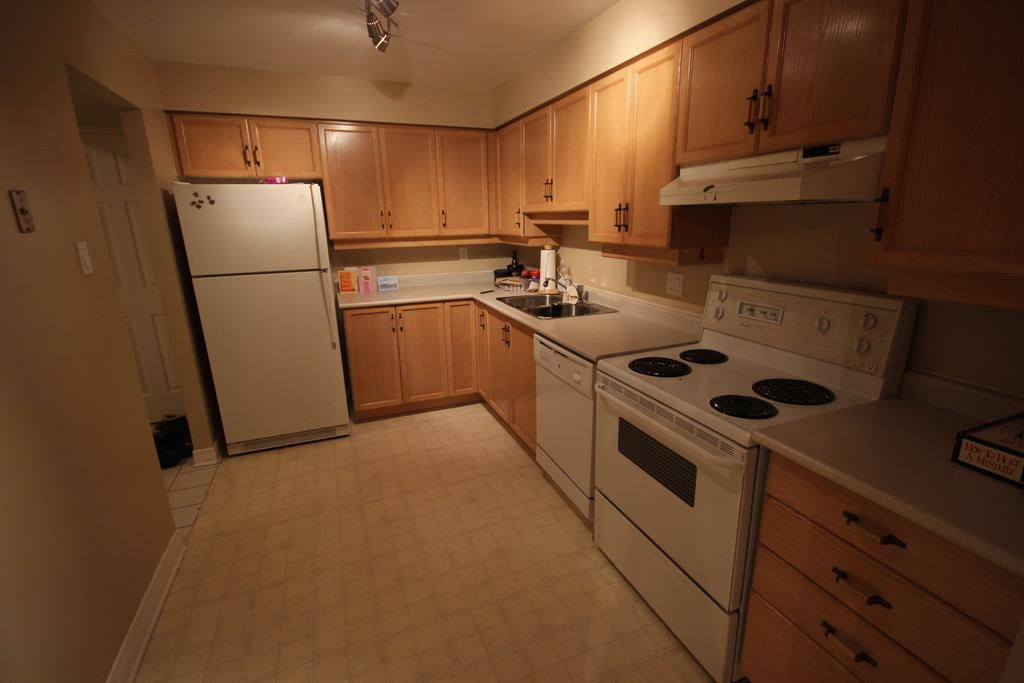door: (88, 131, 171, 440)
